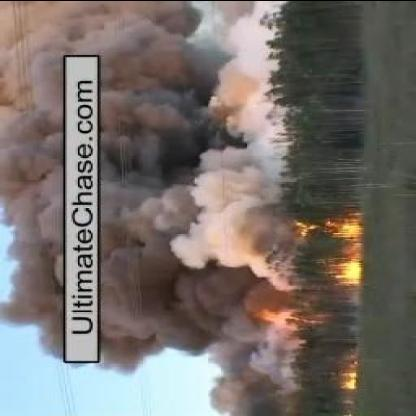-: (101, 34, 258, 372), (2, 40, 60, 336)
foggia-v2-map80-epoch100 - v1 4323: (342, 262, 360, 282), (340, 219, 362, 235)
